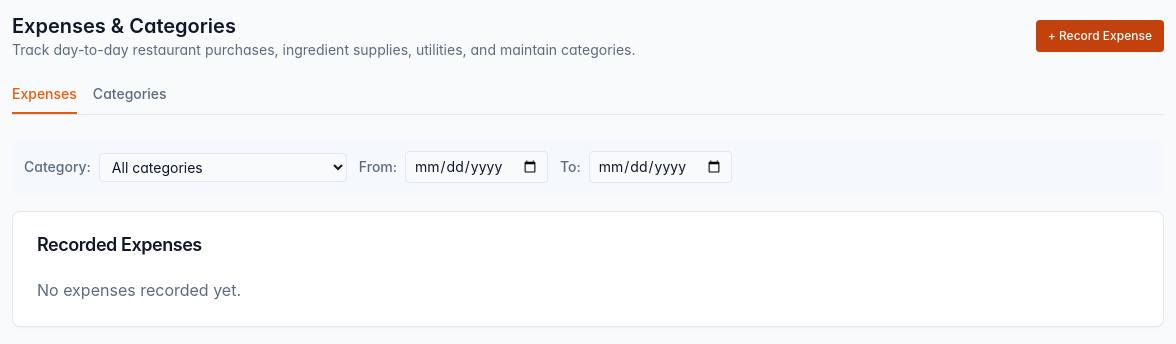
Test: ExpensesPage › switches to Categories tab and lists categories
The image size is (1176, 344).
Click the button "Categories": coordinates (130, 99) [93, 84, 167, 114]
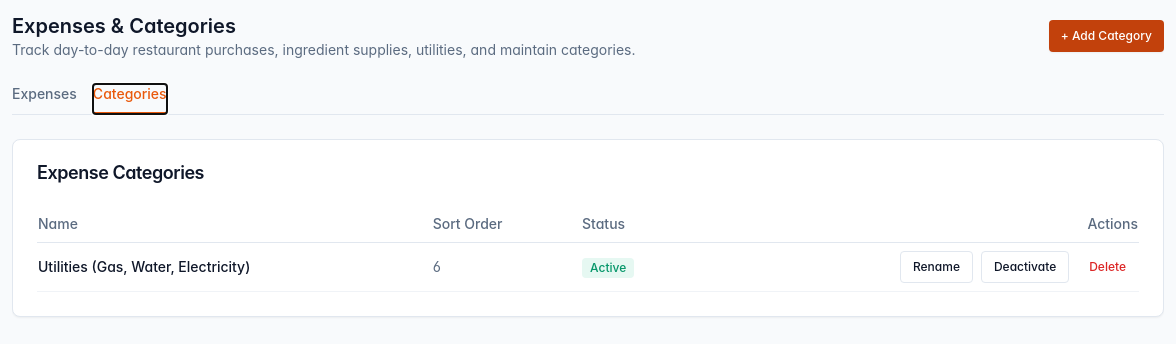
Now the text "Utilities (Gas, Water, Electricity)" is shown, box [37, 242, 432, 292]
Now the text "Active" is shown, box [582, 258, 634, 278]
